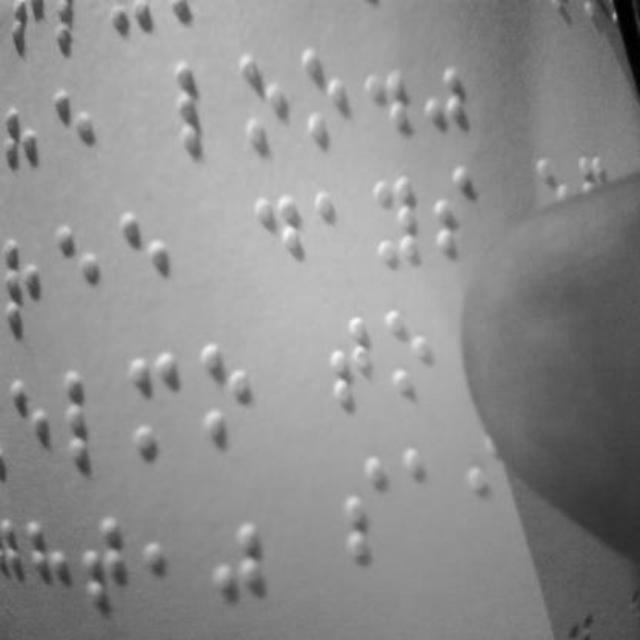braiile: (116, 204, 182, 332), (207, 518, 273, 640), (197, 332, 261, 452), (122, 348, 188, 460), (59, 361, 120, 479), (334, 449, 394, 565), (246, 188, 308, 300), (51, 211, 109, 327), (80, 508, 136, 628), (369, 165, 427, 278), (385, 298, 443, 407), (22, 516, 78, 628), (1, 377, 57, 487), (402, 438, 456, 552), (48, 84, 102, 198), (320, 311, 378, 417), (142, 504, 194, 620), (169, 55, 227, 158), (235, 54, 293, 156), (311, 180, 364, 290), (296, 44, 352, 148), (430, 156, 482, 268), (1, 228, 54, 334)
